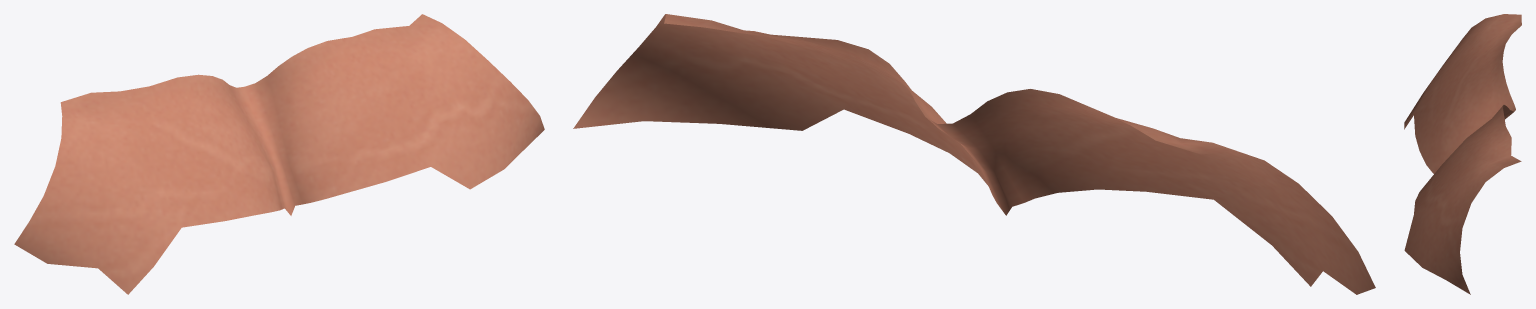
The model's file is chest_upper.glb.
The picture shows the model from 3 angles, left to right: view 1: azimuth 30°, elevation 25°; view 2: azimuth 150°, elevation 25°; view 3: azimuth 270°, elevation 25°; orthographic projection. The views are drawn at different scales.
Parts seen in each view (by area): view 1: chest_upper; view 2: chest_upper; view 3: chest_upper.
Part boxes in pixels (left/top/right/bottom): chest_upper: left=14, top=14, right=544, bottom=294; chest_upper: left=573, top=14, right=1375, bottom=294; chest_upper: left=1404, top=14, right=1521, bottom=294.
Size of the model in its own units: 0.0425 by 0.0111 by 0.00973.
1 material, 1 textured.
